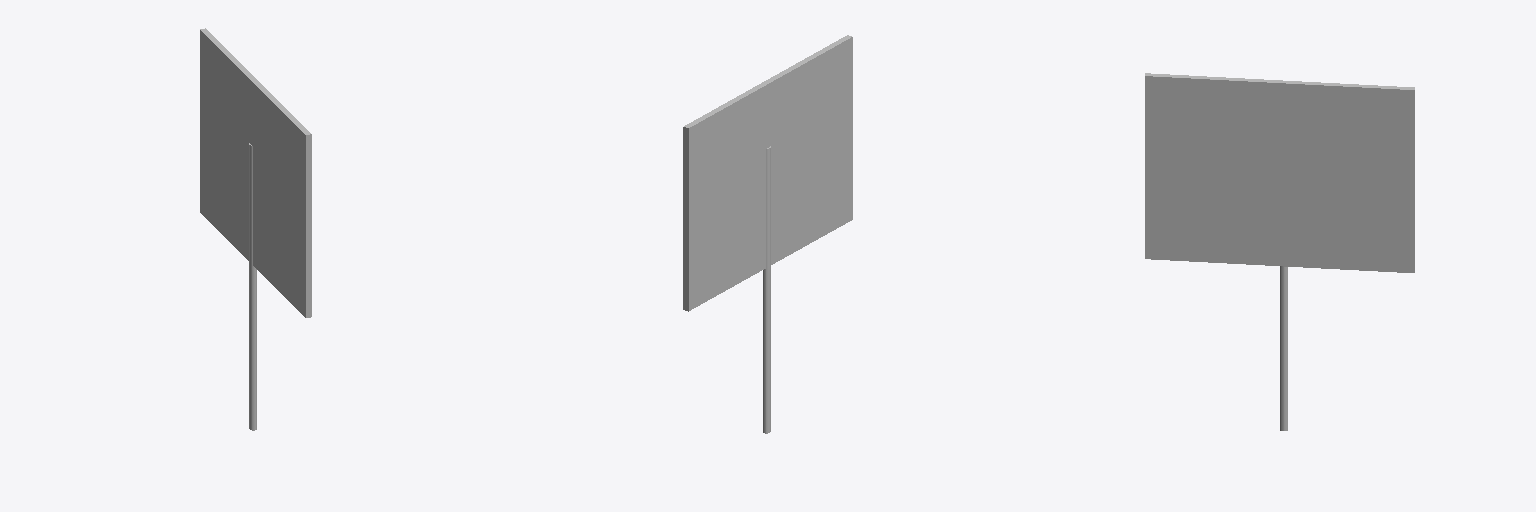
Rendered from board_25.obj.
3 renders of one model, left to right at view 1: azimuth 30°, elevation 25°; view 2: azimuth 150°, elevation 25°; view 3: azimuth 270°, elevation 25°, orthographic.
Visible parts, largest first — view 1: Cube.029_Cube.030, Cylinder.029; view 2: Cube.029_Cube.030, Cylinder.029; view 3: Cube.029_Cube.030, Cylinder.029.
Boxes of the visible parts, x1=… form: Cube.029_Cube.030: x1=200, y1=28, x2=311, y2=317; Cylinder.029: x1=249, y1=143, x2=256, y2=430; Cube.029_Cube.030: x1=683, y1=35, x2=852, y2=311; Cylinder.029: x1=763, y1=146, x2=770, y2=433; Cube.029_Cube.030: x1=1145, y1=73, x2=1414, y2=272; Cylinder.029: x1=1280, y1=266, x2=1287, y2=430.
Bounding box in the file's own units: 0.018 × 0.1717 × 0.1209.